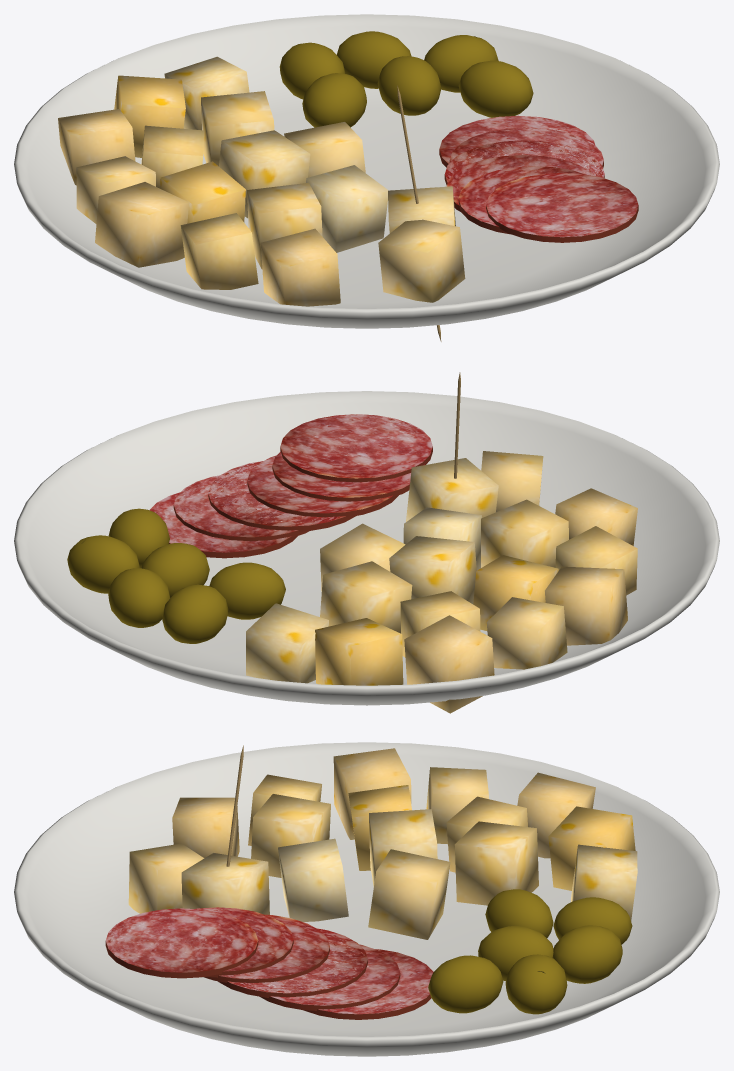
Rendered from prato_petiscos.glb.
The picture shows the model from 3 angles, top to bottom: view 1: azimuth 30°, elevation 25°; view 2: azimuth 150°, elevation 25°; view 3: azimuth 270°, elevation 25°; orthographic projection.
Parts seen in each view (by area): view 1: Prato branco 25 cm, Fatia de salame 8, Cubo de queijo 8, Cubo de queijo 18, Cubo de queijo 15, Cubo de queijo 14, Cubo de queijo 12, Cubo de queijo 10, Cubo de queijo 13, Cubo de queijo 1, Cubo de queijo 2, Cubo de queijo 6 (+17 smaller); view 2: Prato branco 25 cm, Fatia de salame 8, Cubo de queijo 2, Cubo de queijo 1, Cubo de queijo 8, Cubo de queijo 3, Cubo de queijo 4, Cubo de queijo 6, Cubo de queijo 10, Cubo de queijo 13, Cubo de queijo 17, Fatia de salame 5 (+17 smaller); view 3: Prato branco 25 cm, Fatia de salame 8, Cubo de queijo 6, Cubo de queijo 11, Cubo de queijo 14, Cubo de queijo 17, Cubo de queijo 13, Cubo de queijo 2, Cubo de queijo 18, Fatia de salame 5, Cubo de queijo 3, Cubo de queijo 15 (+17 smaller).
Part boxes in pixels (bbox=[...]): Prato branco 25 cm: bbox=[14, 14, 719, 328]; Fatia de salame 8: bbox=[486, 173, 638, 242]; Cubo de queijo 8: bbox=[95, 182, 188, 267]; Cubo de queijo 18: bbox=[378, 219, 465, 302]; Cubo de queijo 15: bbox=[260, 228, 340, 306]; Cubo de queijo 14: bbox=[306, 165, 388, 252]; Cubo de queijo 12: bbox=[180, 213, 258, 289]; Cubo de queijo 10: bbox=[219, 130, 310, 218]; Cubo de queijo 13: bbox=[247, 182, 322, 268]; Cubo de queijo 1: bbox=[58, 109, 135, 185]; Cubo de queijo 2: bbox=[114, 75, 185, 157]; Cubo de queijo 6: bbox=[201, 91, 274, 166]; Prato branco 25 cm: bbox=[14, 391, 719, 705]; Fatia de salame 8: bbox=[280, 414, 432, 482]; Cubo de queijo 2: bbox=[315, 618, 403, 685]; Cubo de queijo 1: bbox=[404, 615, 494, 713]; Cubo de queijo 8: bbox=[545, 566, 627, 645]; Cubo de queijo 3: bbox=[246, 603, 328, 683]; Cubo de queijo 4: bbox=[486, 597, 567, 669]; Cubo de queijo 6: bbox=[320, 561, 412, 633]; Cubo de queijo 10: bbox=[389, 536, 476, 604]; Cubo de queijo 13: bbox=[481, 499, 568, 567]; Cubo de queijo 17: bbox=[406, 458, 498, 521]; Fatia de salame 5: bbox=[208, 461, 355, 531]; Prato branco 25 cm: bbox=[14, 742, 719, 1056]; Fatia de salame 8: bbox=[105, 908, 258, 978]; Cubo de queijo 6: bbox=[454, 821, 538, 905]; Cubo de queijo 11: bbox=[368, 849, 450, 939]; Cubo de queijo 14: bbox=[278, 838, 348, 921]; Cubo de queijo 17: bbox=[181, 853, 269, 914]; Cubo de queijo 13: bbox=[251, 794, 330, 877]; Cubo de queijo 2: bbox=[548, 806, 635, 890]; Cubo de queijo 18: bbox=[128, 843, 204, 913]; Fatia de salame 5: bbox=[218, 928, 367, 997]; Cubo de queijo 3: bbox=[571, 844, 637, 921]; Cubo de queijo 15: bbox=[172, 797, 239, 857].
Bounding box in the file's own units: 0.25 × 0.0984 × 0.25.
Materials: 7 (2 with a texture image).
